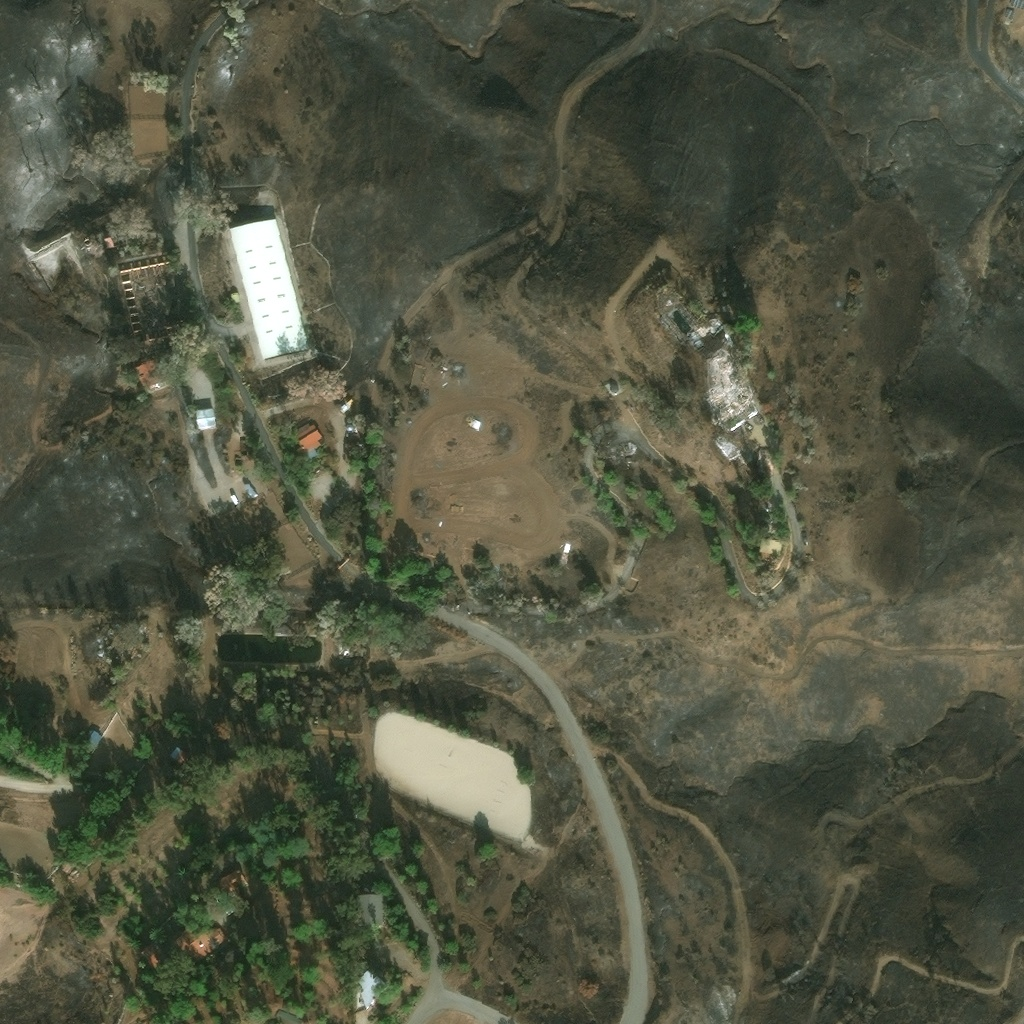0 no-damage: (220, 217, 309, 362), (353, 966, 389, 1008), (187, 923, 227, 959), (290, 422, 322, 459), (356, 894, 382, 925), (218, 864, 244, 890), (133, 357, 160, 382), (139, 941, 162, 969), (757, 538, 782, 563), (194, 407, 217, 428), (170, 743, 190, 764), (84, 728, 101, 746), (338, 396, 355, 414), (344, 444, 362, 458), (346, 425, 359, 439), (1007, 0, 1023, 9), (1003, 6, 1014, 19), (104, 236, 113, 247)
2 major-damage: (114, 256, 173, 334)
3 destroyed: (702, 345, 756, 423), (597, 393, 621, 418), (684, 328, 705, 352), (706, 316, 724, 335), (719, 436, 737, 452), (735, 447, 752, 462), (661, 295, 675, 309), (610, 380, 618, 391)
4 un-classified: (273, 1008, 301, 1023)
